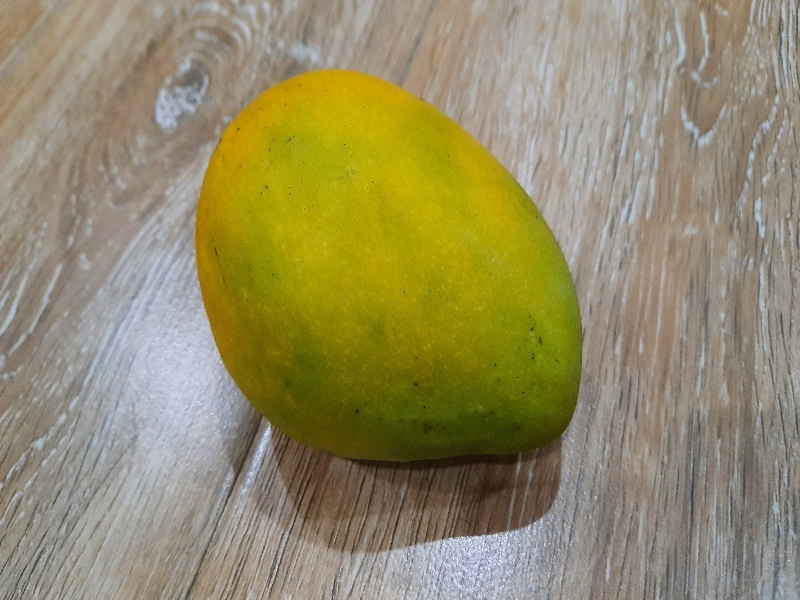fruit: (188, 56, 592, 478)
